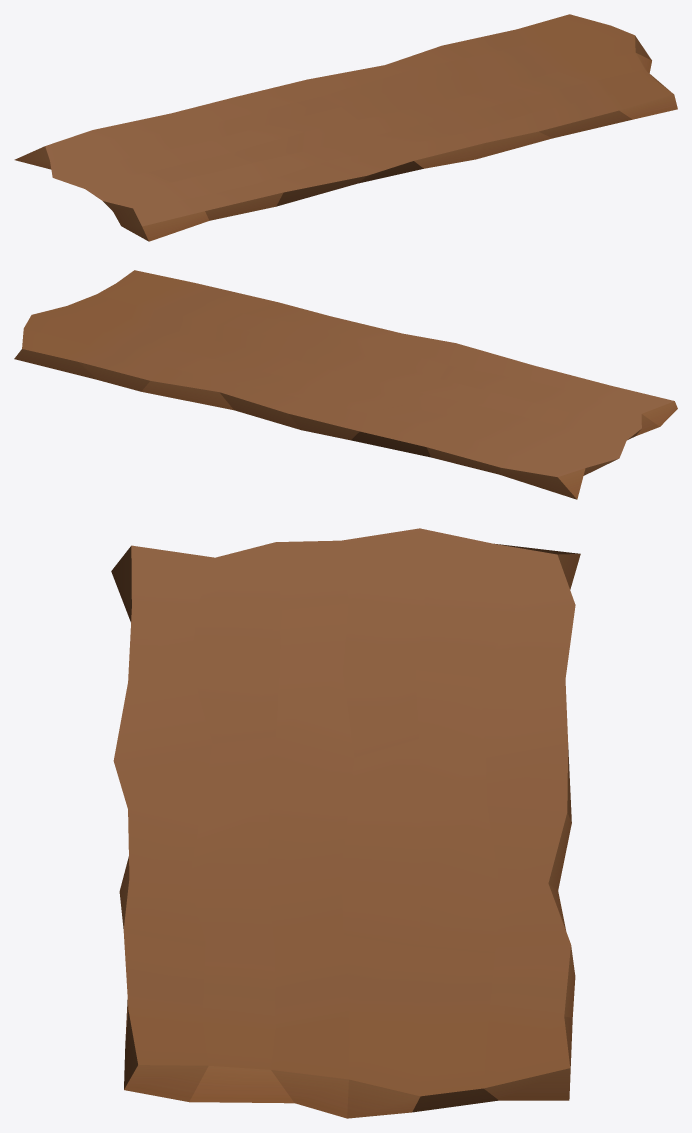
File: Wood Table con UV 1.fbx
3 renders of one model, top to bottom at view 1: azimuth 30°, elevation 25°; view 2: azimuth 150°, elevation 25°; view 3: azimuth 270°, elevation 25°, orthographic. The views are drawn at different scales.
Visible parts, largest first — view 1: Cube.007; view 2: Cube.007; view 3: Cube.007.
Boxes of the visible parts, x1,y1,x2,y2 form: Cube.007: (14, 14, 677, 241); Cube.007: (14, 270, 677, 499); Cube.007: (111, 528, 580, 1118).
Size of the model in its own units: 846 by 18.08 by 295.
